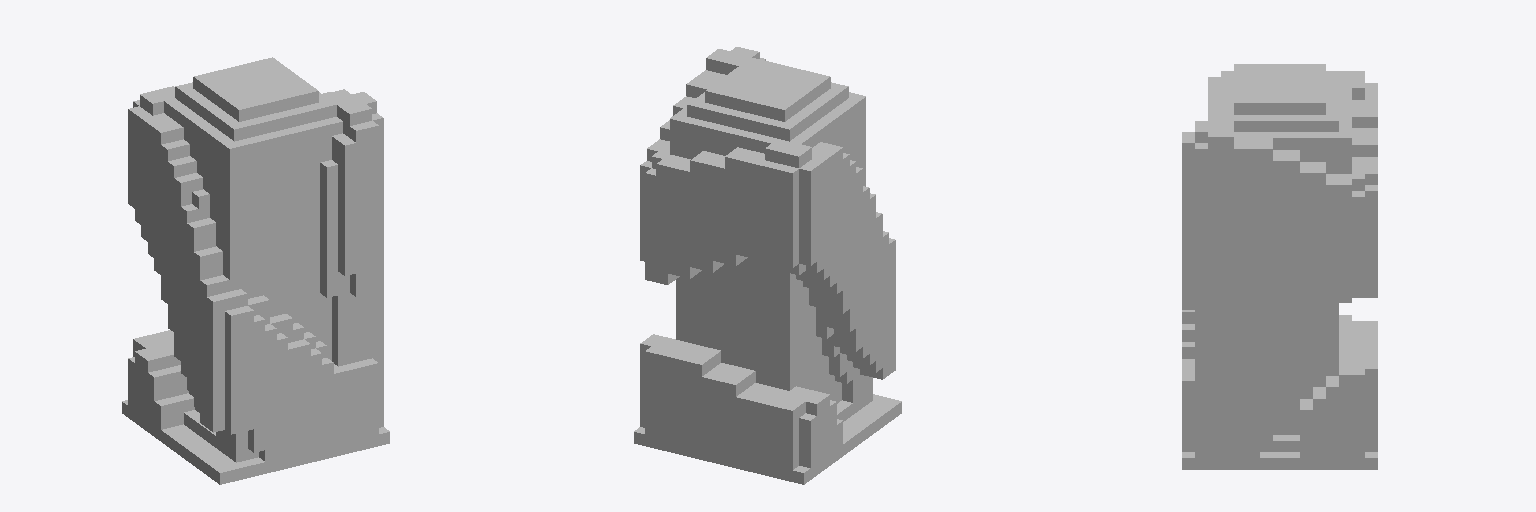
File: Cave Wall test 2.obj
3 renders of one model, left to right at view 1: azimuth 30°, elevation 25°; view 2: azimuth 150°, elevation 25°; view 3: azimuth 270°, elevation 25°, orthographic.
Visible parts, largest first — view 1: object 1; view 2: object 1; view 3: object 1.
Part boxes in pixels (x1,y1,x2,y2): object 1: (122,57,389,484); object 1: (634,47,901,484); object 1: (1182,64,1377,469).
Bounding box in the file's own units: 1.5 × 2.9 × 1.5.